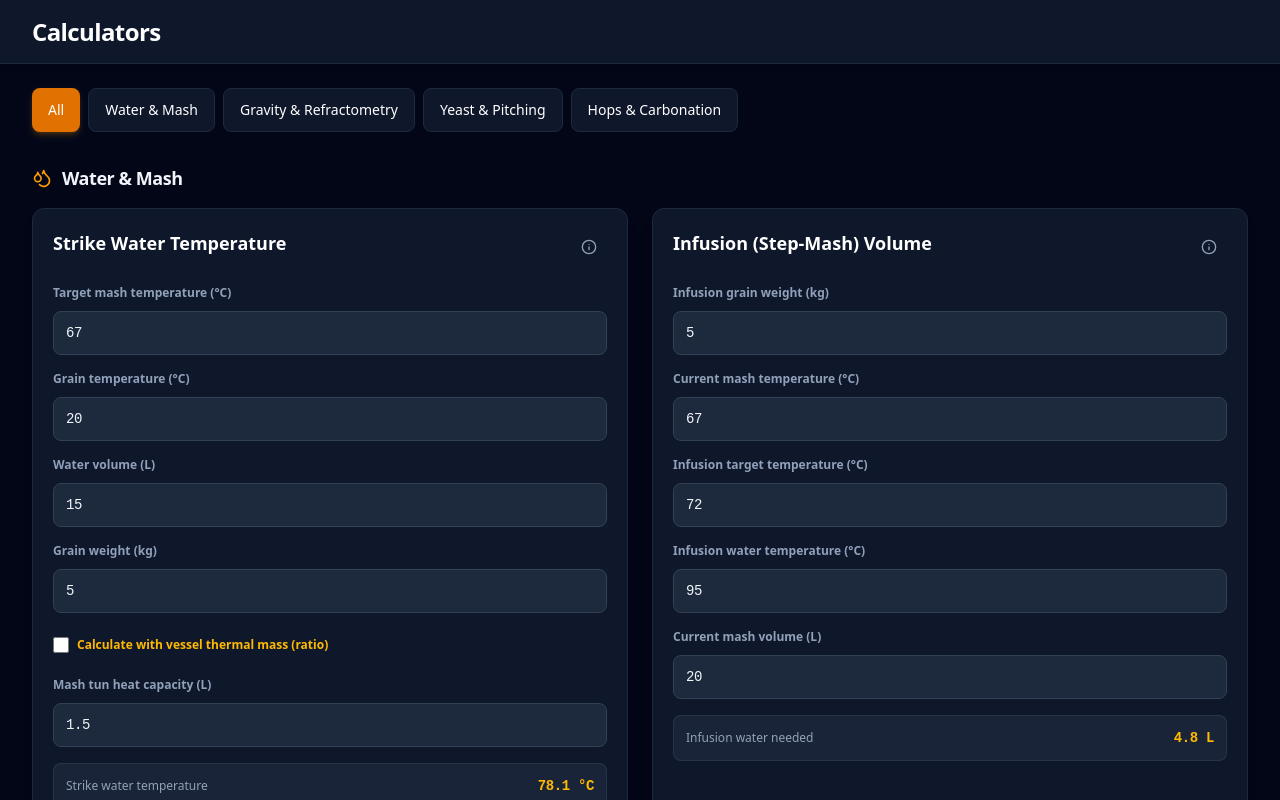
AC-13: infusion-volume card › a target below the current temperature renders the function's own 0.0 L guard
Expected: the heading "Calculators" is shown, [32,16,160,48]
Replace the text in the field labelled "Infusion target temperature (°C)" with "50" at [950, 505], box [673,483,1227,527]
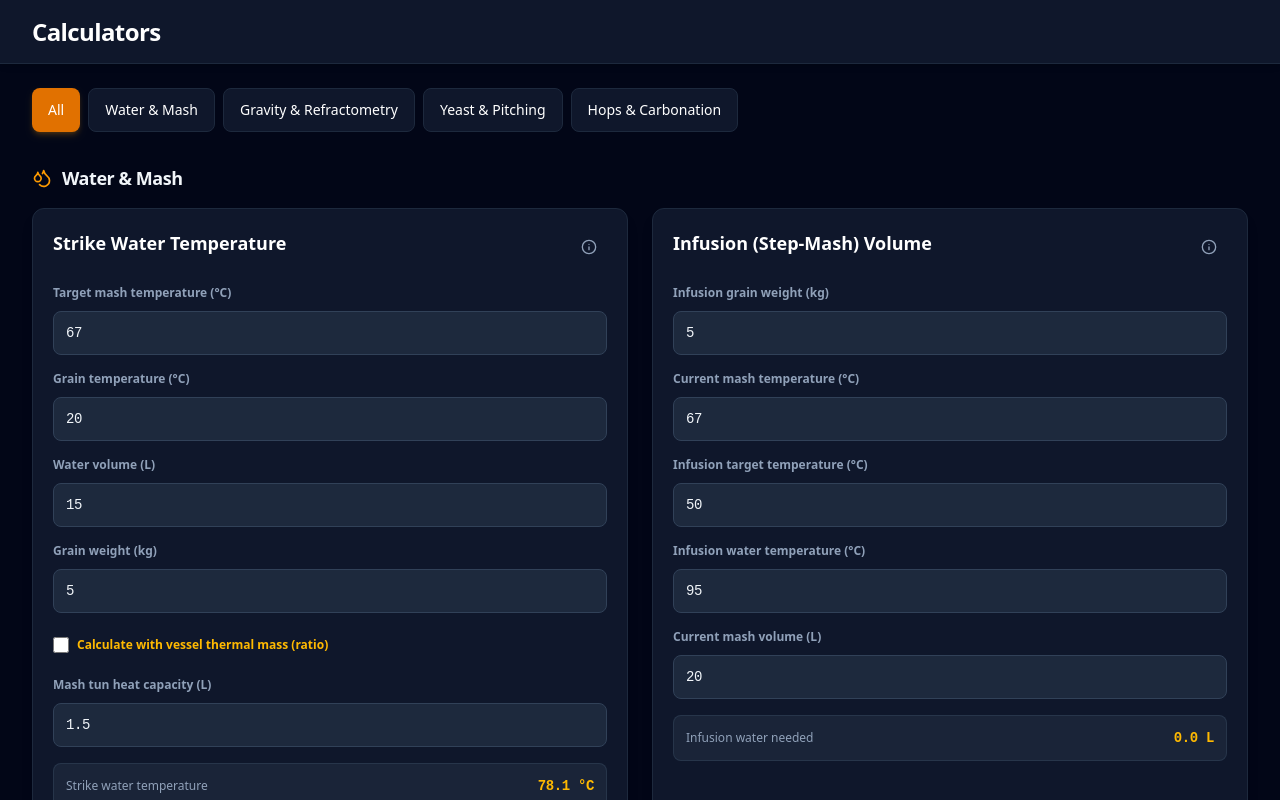
Result: the text "0.0 L" is shown at [1174,728,1214,748]
